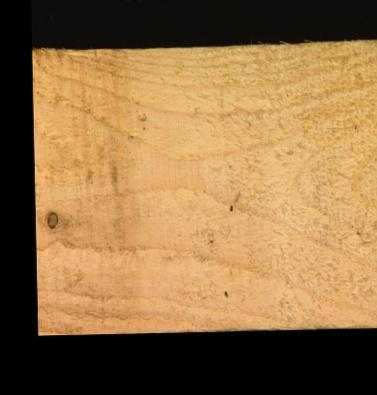dry_knot: (43, 209, 58, 229)
